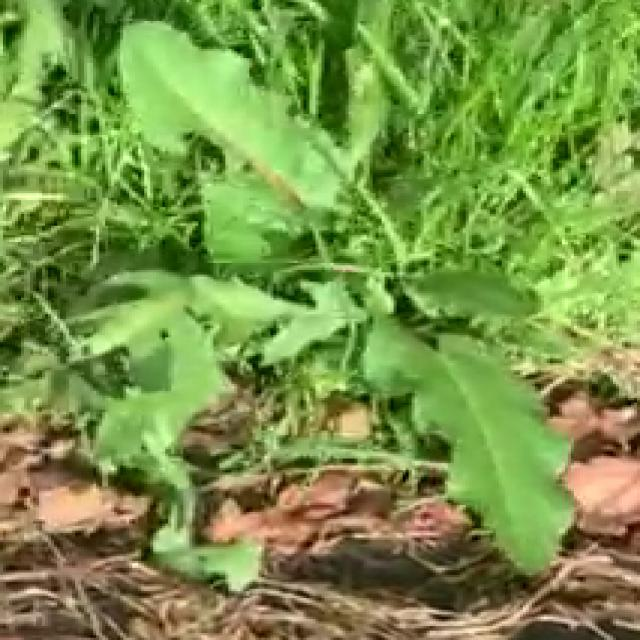organic waste: (72, 16, 628, 589)
